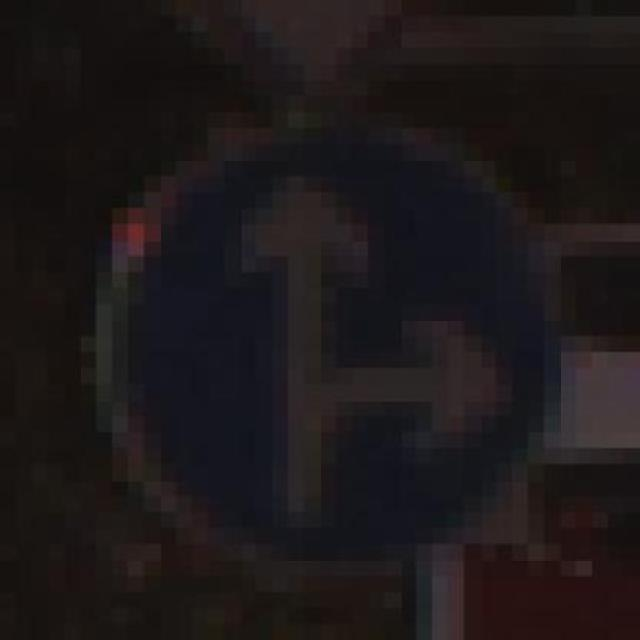Go Straight or Turn Right: (96, 79, 576, 576)
